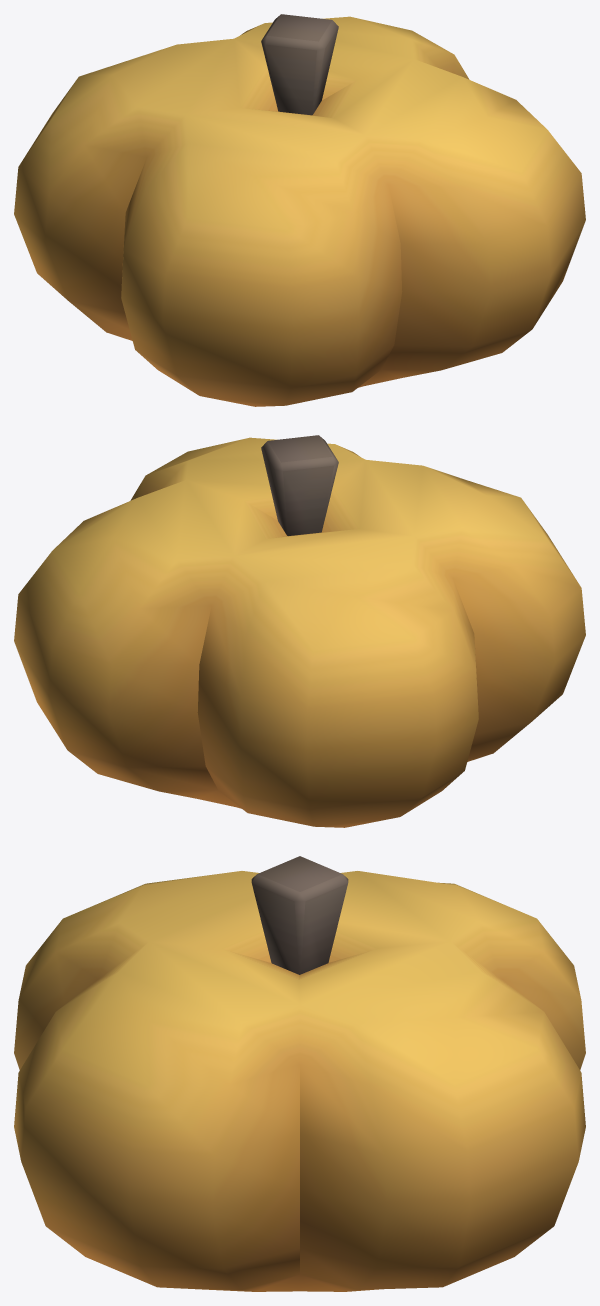
Rendered from kay-abobora-amarela.gltf.
3 views of the same model, one above another, from view 1: azimuth 30°, elevation 25°; view 2: azimuth 150°, elevation 25°; view 3: azimuth 270°, elevation 25° (orthographic). The views are drawn at different scales.
Visible parts, largest first — view 1: pumpkin_yellow; view 2: pumpkin_yellow; view 3: pumpkin_yellow.
Part boxes in pixels (x1,y1,x2,y2): pumpkin_yellow: (14,14,585,406); pumpkin_yellow: (14,435,585,827); pumpkin_yellow: (14,856,585,1291).
Size of the model in its own units: 0.5009 by 0.35 by 0.5009.
1 material, 1 textured.
